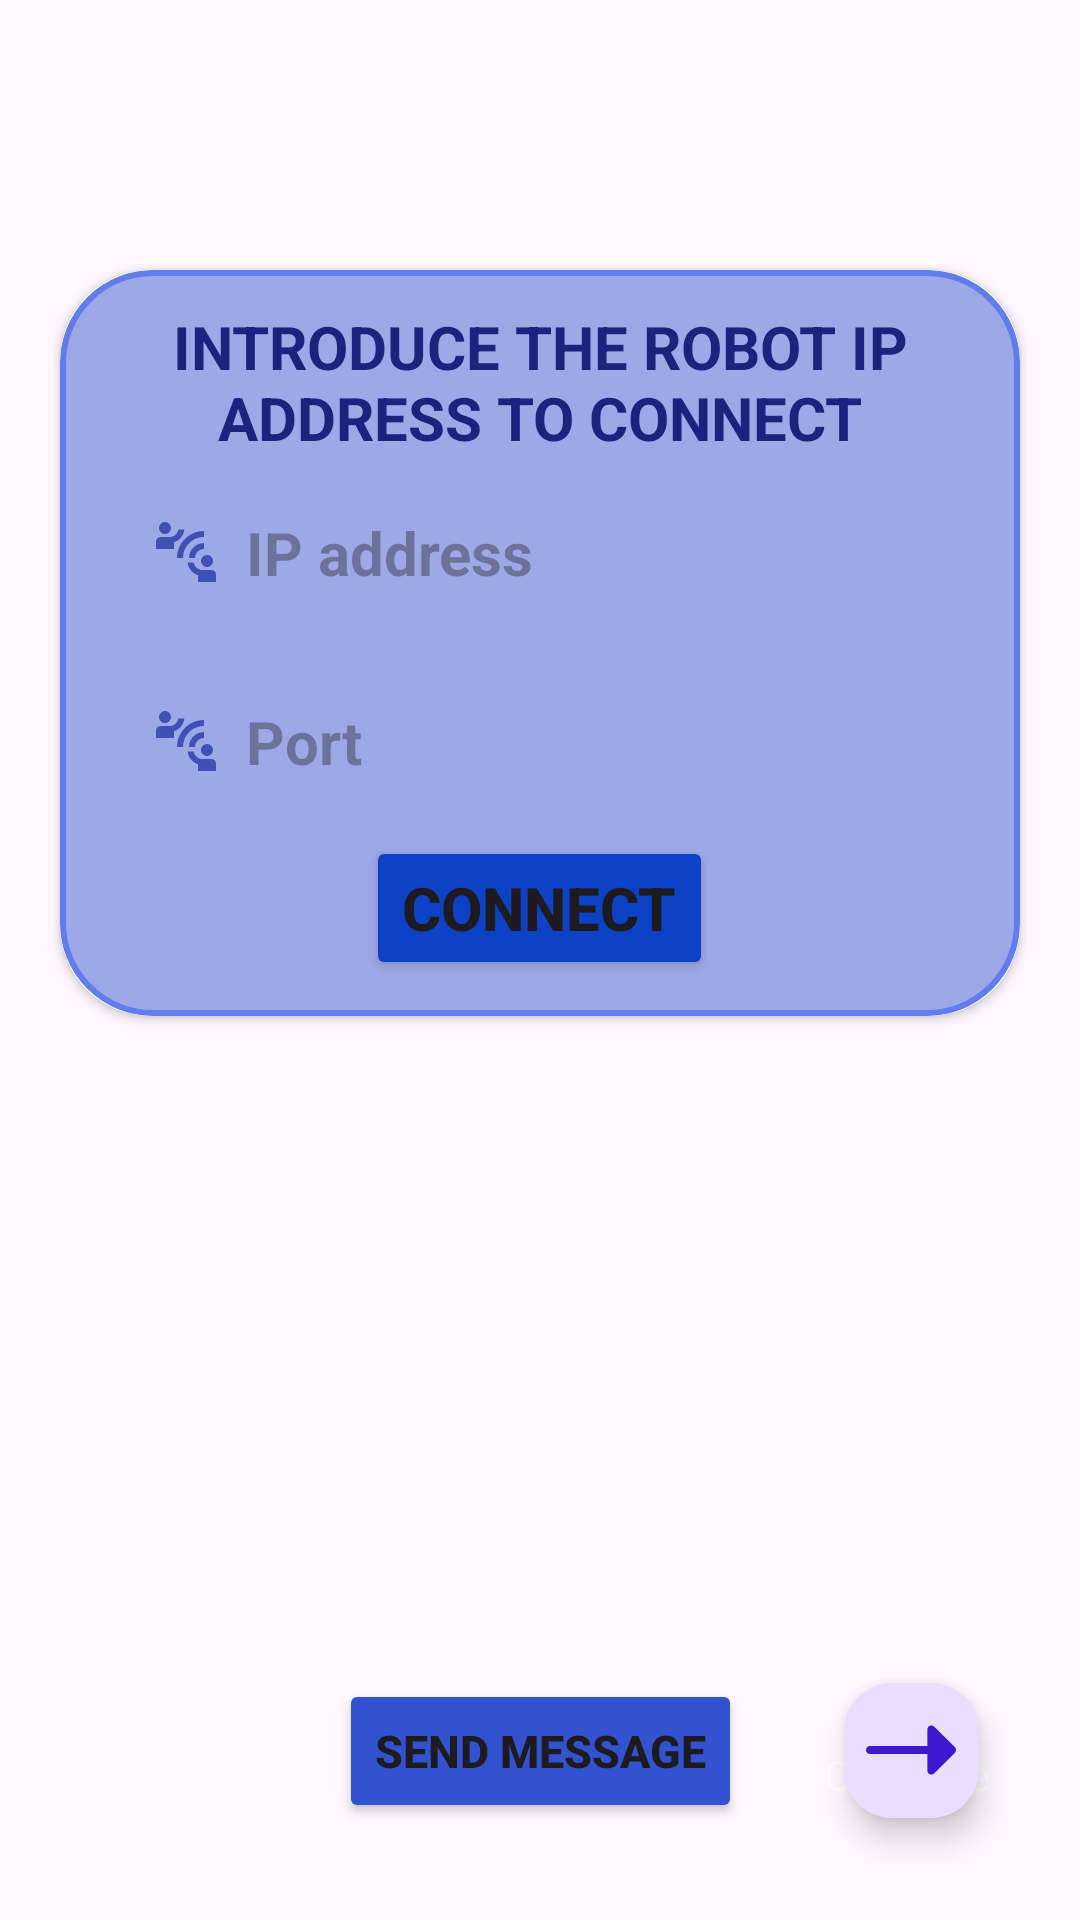

Named icons in this screenshot (1080px×1920px) and their centers, (x,y):
forward arrow: (912,1752)
